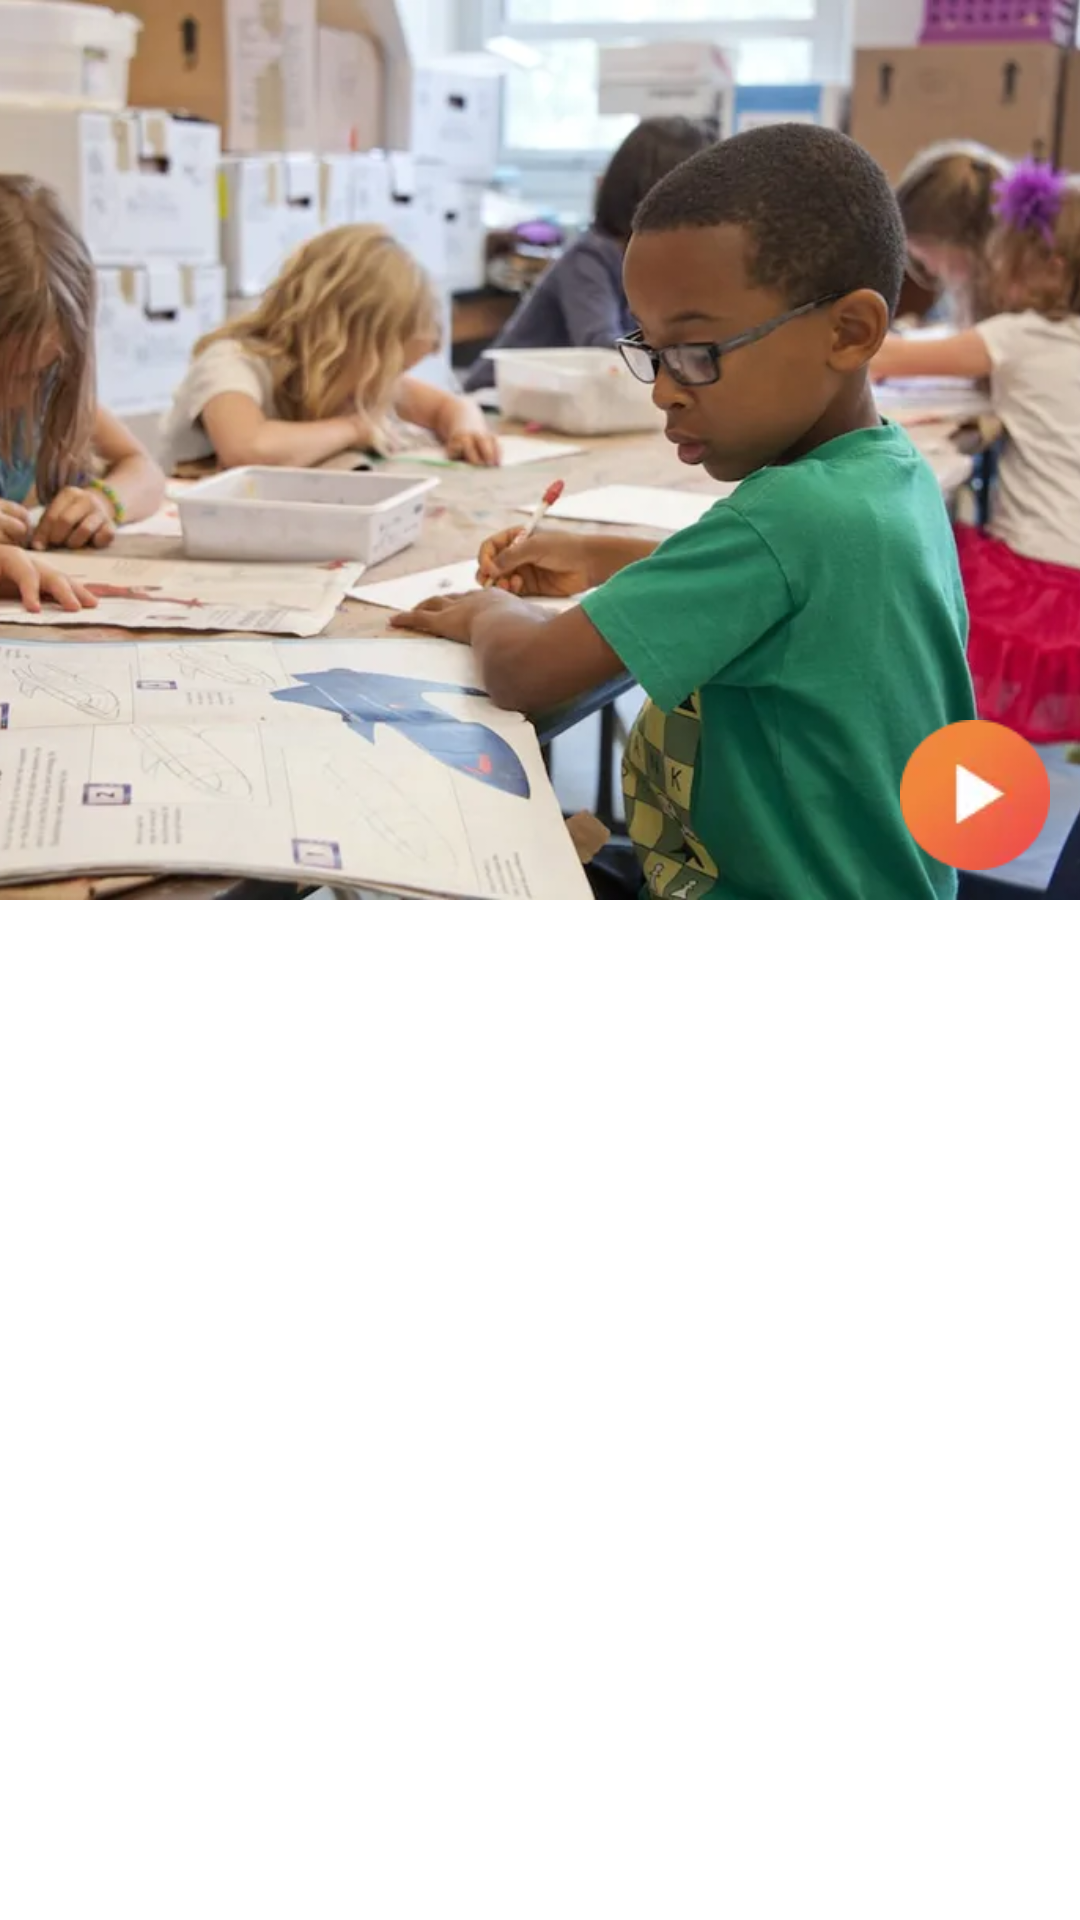

Where to tap for icons on this 1080 × 1920 app screen, as (x,y):
play venus: (975,795)
